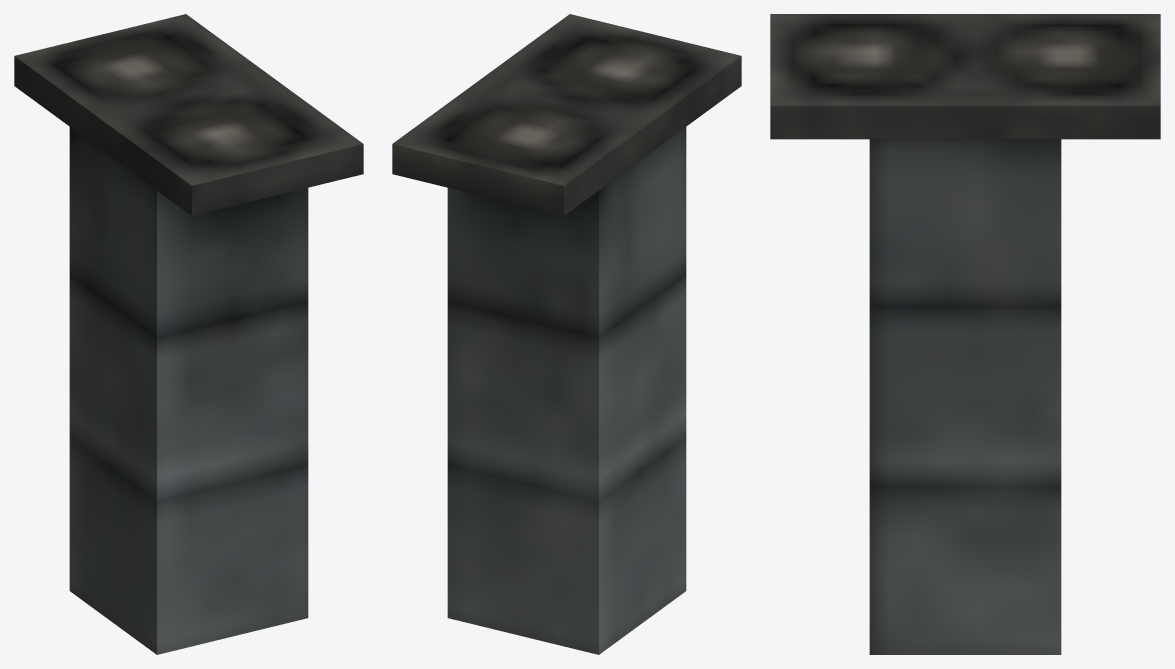
Rendered from Roof_AirExitA.FBX.
3 views of the same model, side by side, from view 1: azimuth 30°, elevation 25°; view 2: azimuth 150°, elevation 25°; view 3: azimuth 270°, elevation 25° (orthographic). The views are drawn at different scales.
Parts seen in each view (by area): view 1: Roof_AirExitA; view 2: Roof_AirExitA; view 3: Roof_AirExitA.
Boxes of the visible parts, x1,y1,x2,y2 form: Roof_AirExitA: [14, 14, 363, 654]; Roof_AirExitA: [392, 14, 741, 654]; Roof_AirExitA: [770, 14, 1160, 654].
Size of the model in its own units: 1.14 by 3.19 by 2.04.
